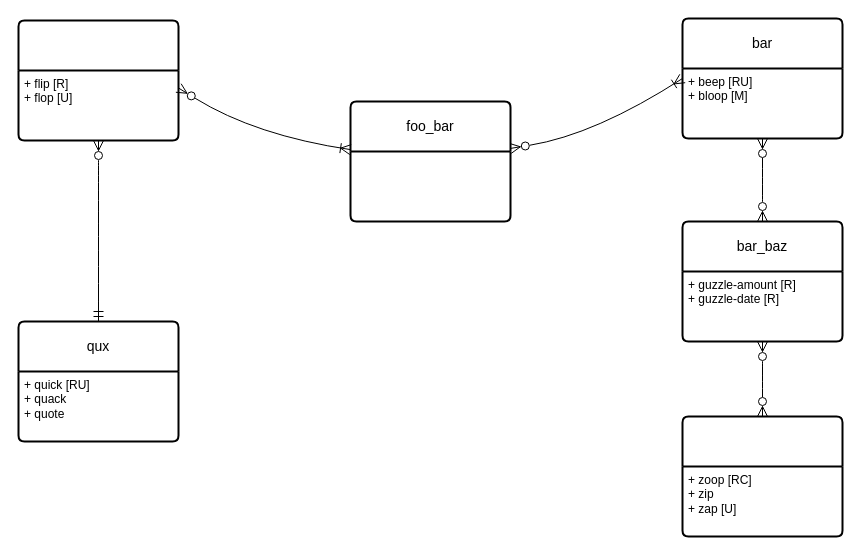
The diagram is 860 pixels wide and 554 high, and some of its shapes have lost their labels. Each missing label, with the box of its shape:
baz: (681, 415, 843, 537)
foo: (17, 19, 179, 141)
